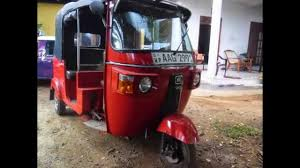tuk tuk: (48, 1, 203, 167)
